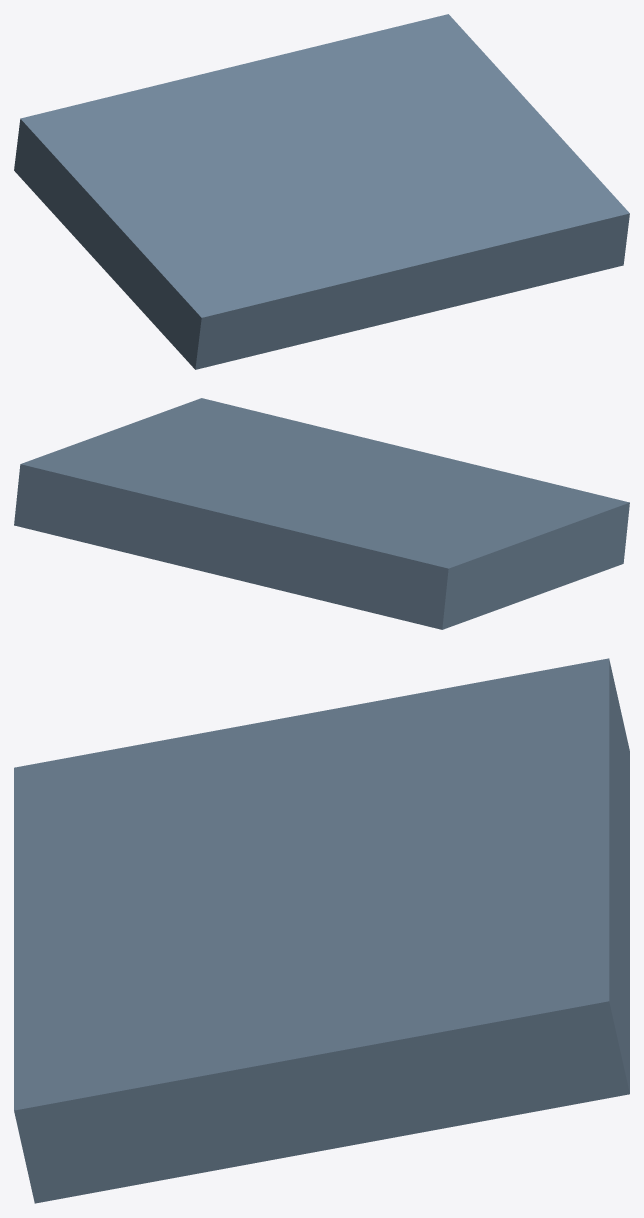
The model's file is MOD_ROOF_GABLE_STANDARD_001.glb.
3 renders of one model, top to bottom at view 1: azimuth 30°, elevation 25°; view 2: azimuth 150°, elevation 25°; view 3: azimuth 270°, elevation 25°, orthographic. The views are drawn at different scales.
Parts seen in each view (by area): view 1: MOD_ROOF_GABLE_STANDARD_001; view 2: MOD_ROOF_GABLE_STANDARD_001; view 3: MOD_ROOF_GABLE_STANDARD_001.
Part boxes in pixels (<box>): MOD_ROOF_GABLE_STANDARD_001: <box>14,14,629,369</box>; MOD_ROOF_GABLE_STANDARD_001: <box>14,398,629,629</box>; MOD_ROOF_GABLE_STANDARD_001: <box>14,658,629,1203</box>.
Bounding box in the file's own units: 3.1 × 0.8529 × 2.35.
